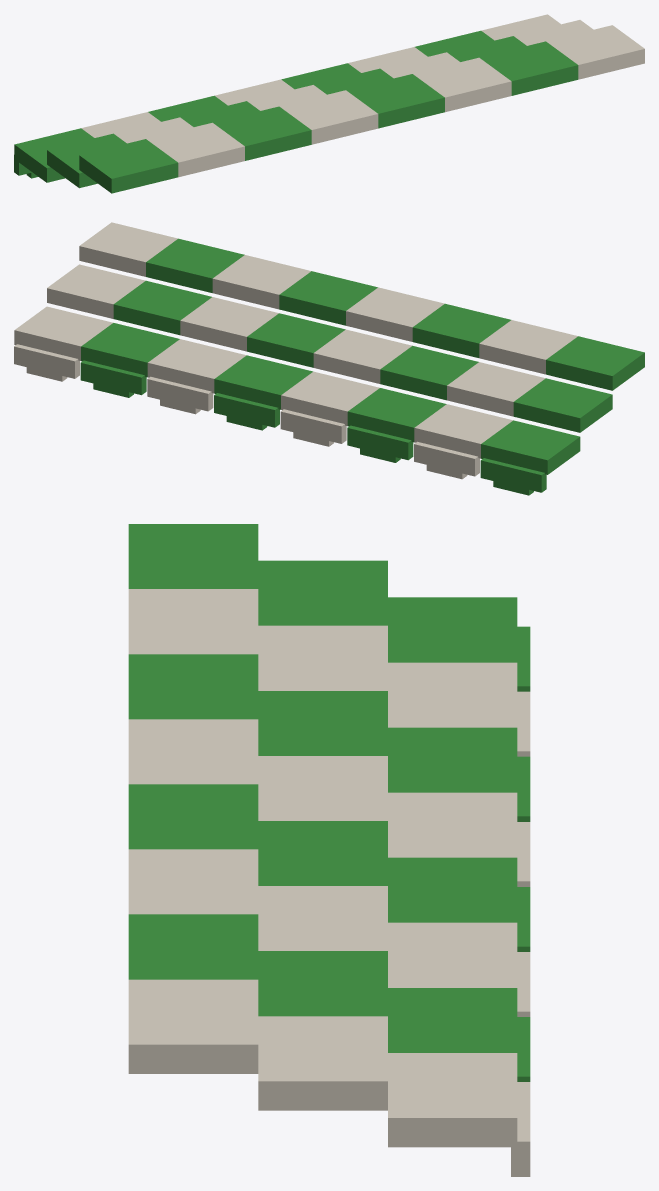
Rendered from cp-shop-awning-green.glb.
The picture shows the model from 3 angles, top to bottom: view 1: azimuth 30°, elevation 25°; view 2: azimuth 150°, elevation 25°; view 3: azimuth 270°, elevation 25°; orthographic projection. The views are drawn at different scales.
Visible parts, largest first — view 1: box-prop; view 2: box-prop; view 3: box-prop.
Boxes of the visible parts, bbox=[...] form: box-prop: bbox=[14, 14, 644, 193]; box-prop: bbox=[14, 222, 644, 495]; box-prop: bbox=[128, 524, 530, 1176].
Size of the model in its own units: 7.6 by 1 by 2.48.
